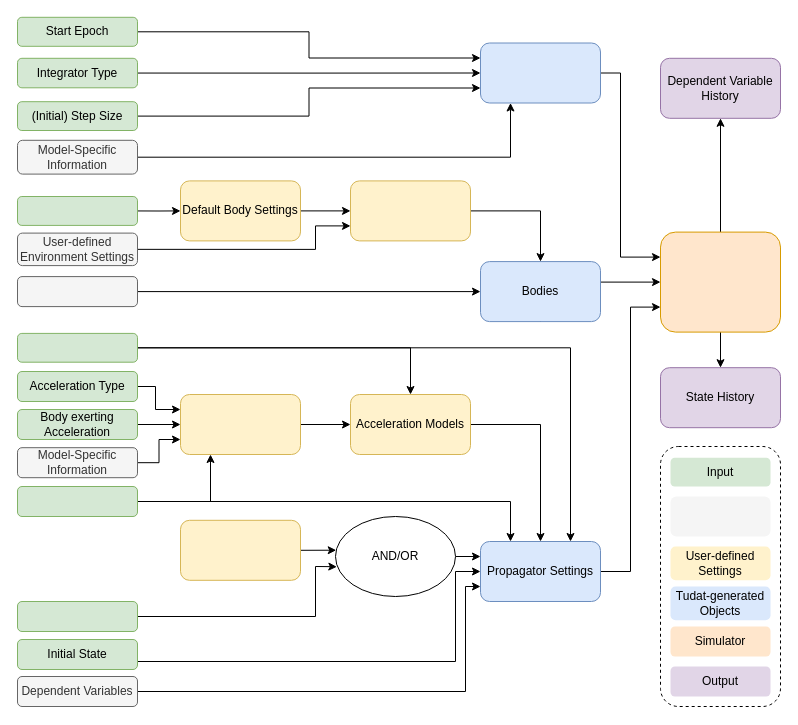
The diagram is 798 pixels wide and 725 high, and some of its shapes have lost their labels. The shapes that lost their labels are listed below. From the top down, each one's centre as x and y in pixels, then its label:
the point at 540,72: Integrator Settings
the point at 77,210: Body Names
the point at 410,210: Body Settings
the point at 77,291: User-defined Bodies
the point at 720,281: Dynamics Simulator
the point at 77,347: Central Bodies
the point at 240,424: Acceleration Settings
the point at 77,501: Bodies to Propagate
the point at 720,516: Optional Input (model-specific)
the point at 240,549: State-dependent Termination Settings
the point at 77,616: End Epoch
